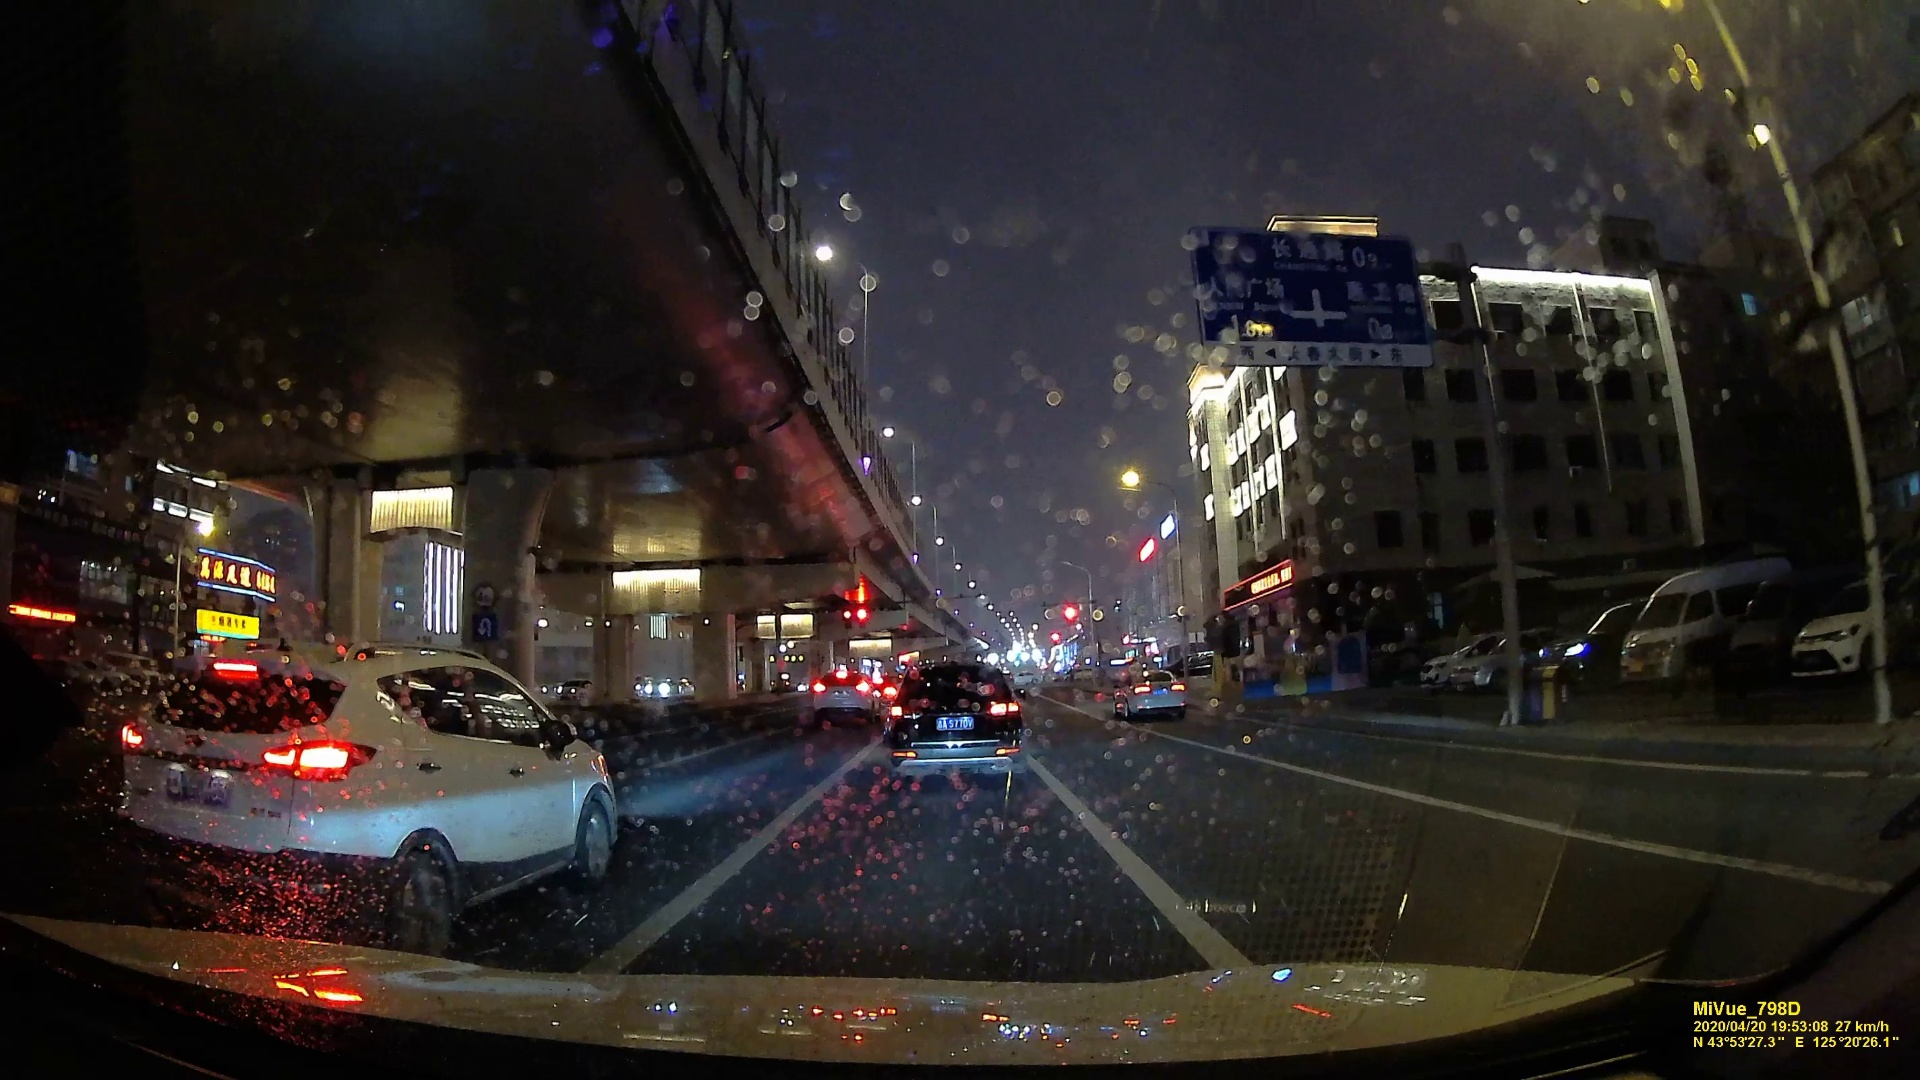minibus: (1618, 564, 1756, 694)
traffic_sign: (1174, 215, 1427, 371), (469, 582, 498, 609), (473, 615, 496, 638), (1062, 597, 1077, 625), (856, 608, 866, 626), (843, 609, 852, 629)
vehicle: (138, 628, 620, 910), (880, 665, 1025, 774), (811, 665, 884, 725), (1112, 669, 1185, 720)
